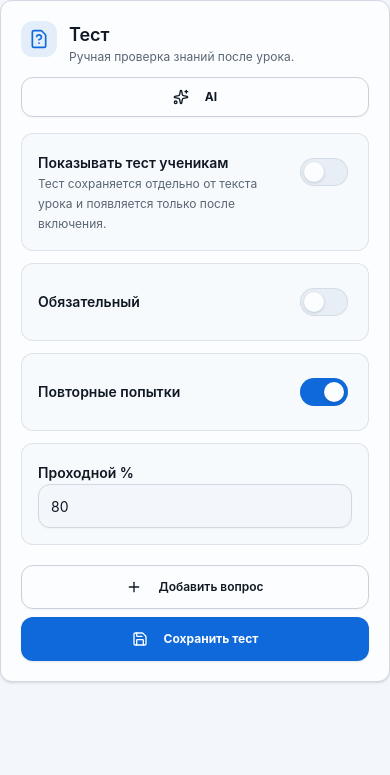
Test case: LessonQuizEditor › generates a quiz without replacement when the lesson has no questions
Expected: the text "Ручная проверка знаний после урока." is shown, [69,49,294,64]
Click the button "AI": (181, 97) [21,77,369,117]
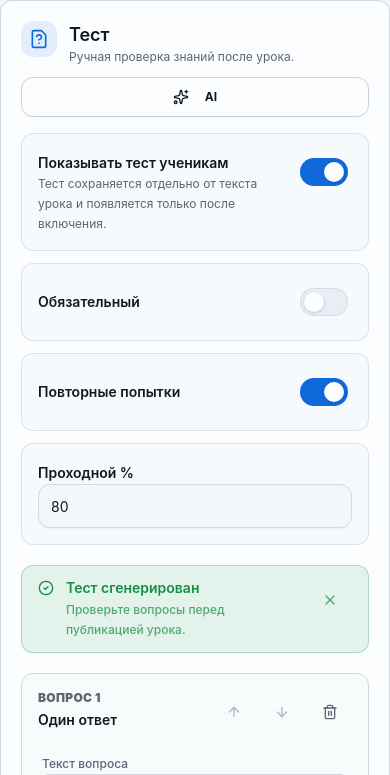
Expected: the text "Тест сгенерирован" is shown, [66,579,199,596]
